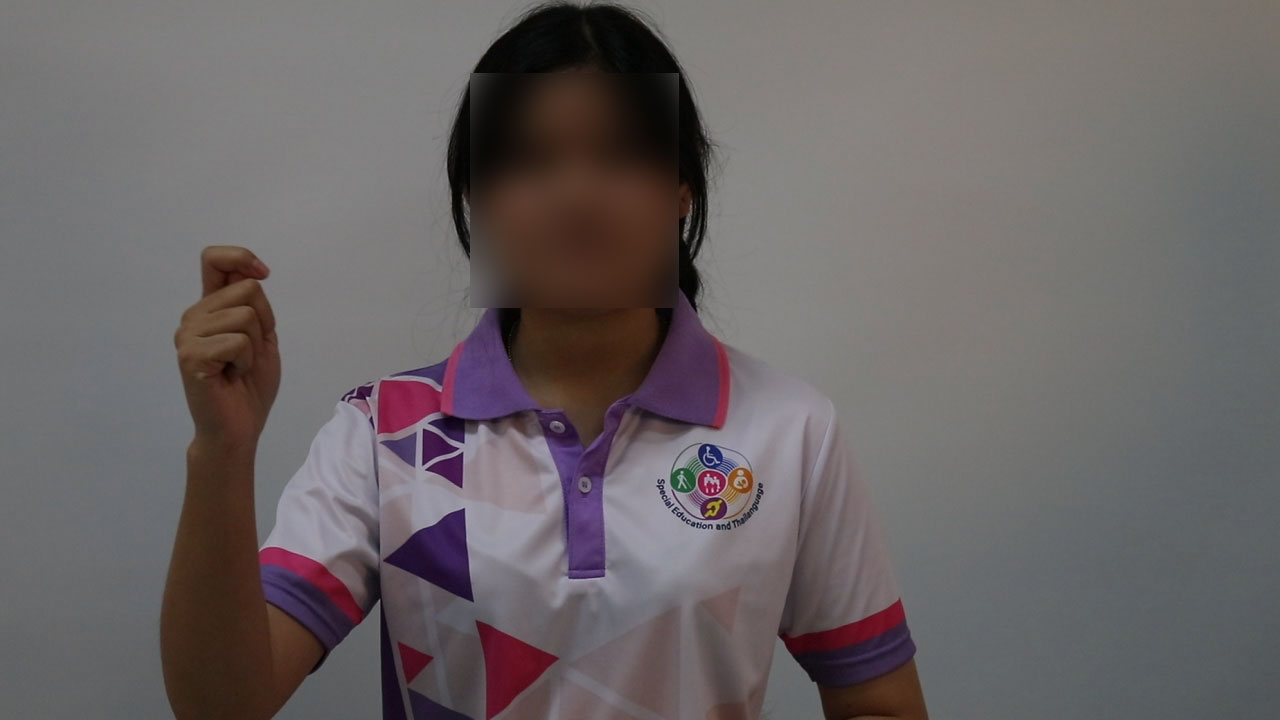or: (170, 238, 295, 450)
